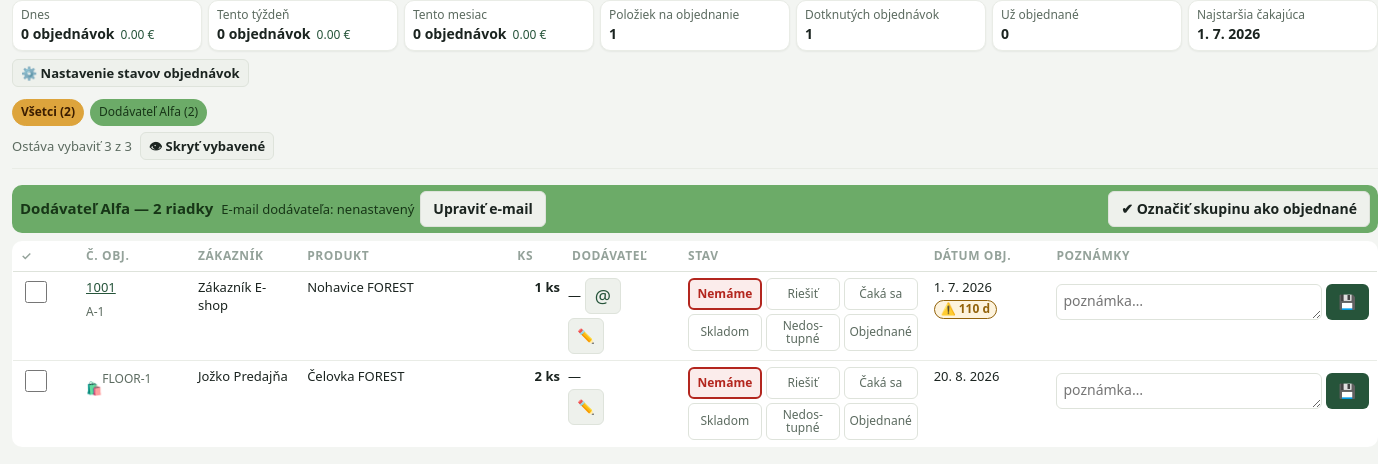
Scenario: hromadné Označiť skupinu ako objednané zahŕňa aj predajňové riadky
Click the button "✔ Označiť skupinu ako objednané".
click(1239, 209)  # box [1108,191,1370,227]
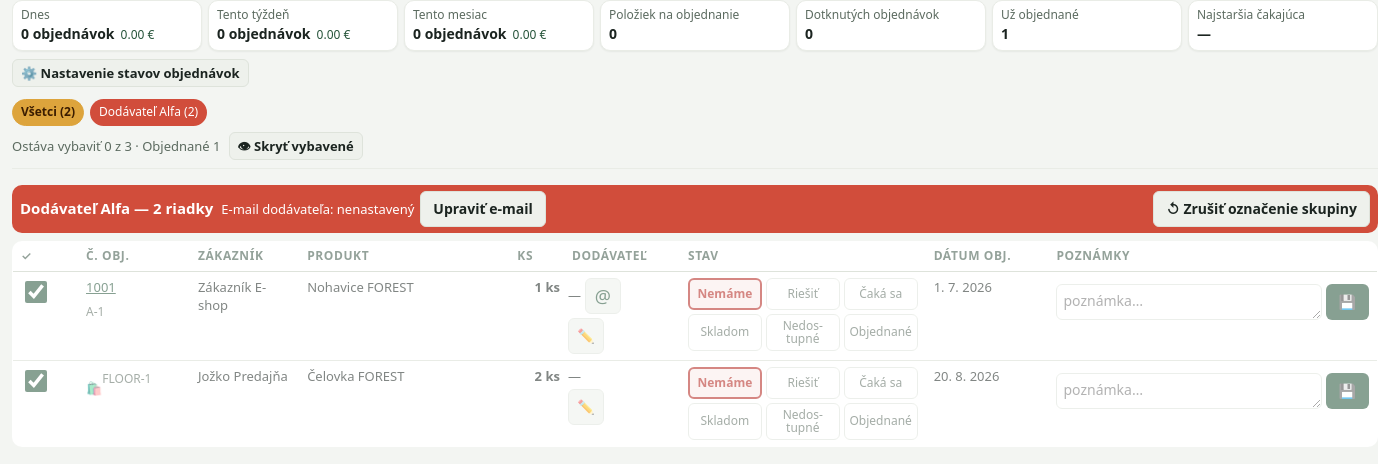
Result: the button "↺ Zrušiť označenie skupiny" is shown at [1153,191,1370,227]
